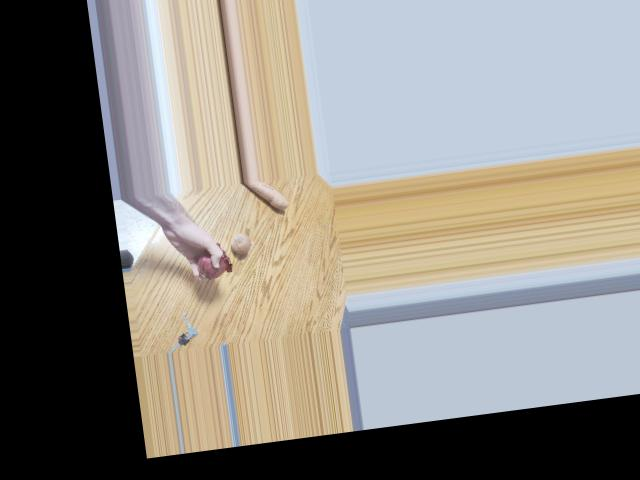onion: (197, 251, 227, 280)
